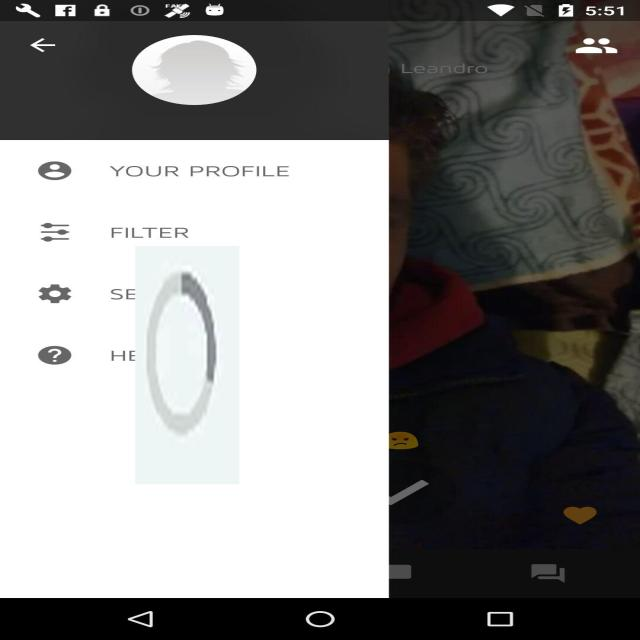misdirection: (135, 246, 240, 484)
